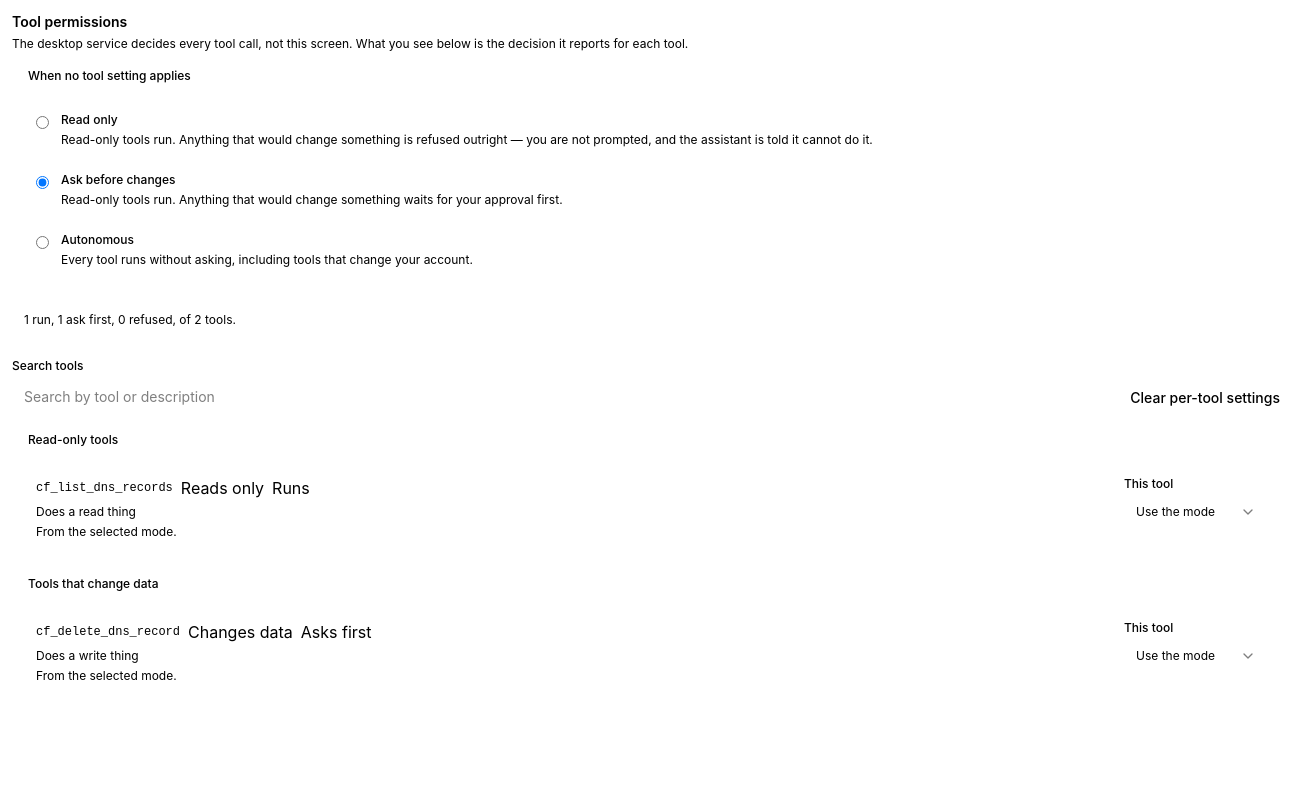
Scenario: a refused save keeps the backend's message and leaves the rows alone
This screenshot has width=1304, height=812.
Click the radio button labelled "Autonomous". click: coordinates (42, 242)
box: 36,236 -> 49,249
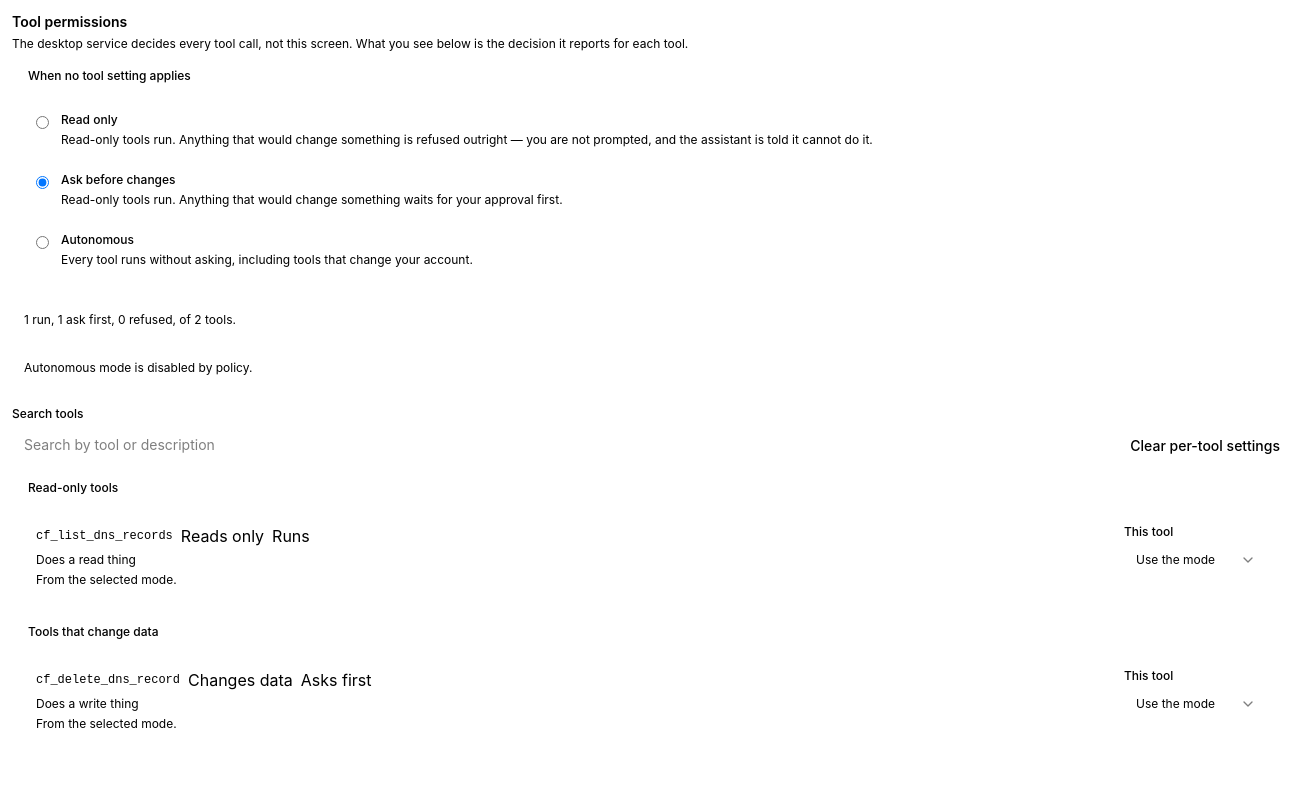
Result: the text "Autonomous mode is disabled by policy." is shown at 24,360 -> 252,375
